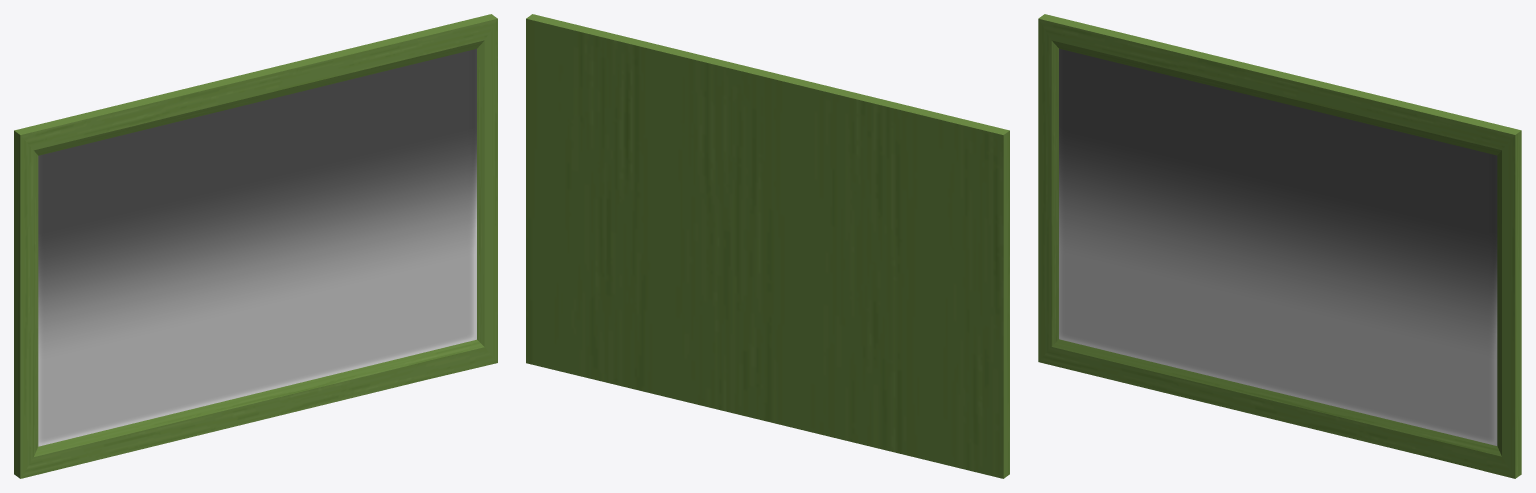
File: Mirror_D.FBX
3 renders of one model, left to right at view 1: azimuth 30°, elevation 25°; view 2: azimuth 150°, elevation 25°; view 3: azimuth 330°, elevation 25°, orthographic.
Visible parts, largest first — view 1: Mirror; view 2: Mirror; view 3: Mirror.
Part boxes in pixels (<box>): Mirror: <box>14,14,497,478</box>; Mirror: <box>526,14,1009,478</box>; Mirror: <box>1038,14,1521,478</box>.
Bounding box in the file's own units: 238 × 164 × 5.52.
